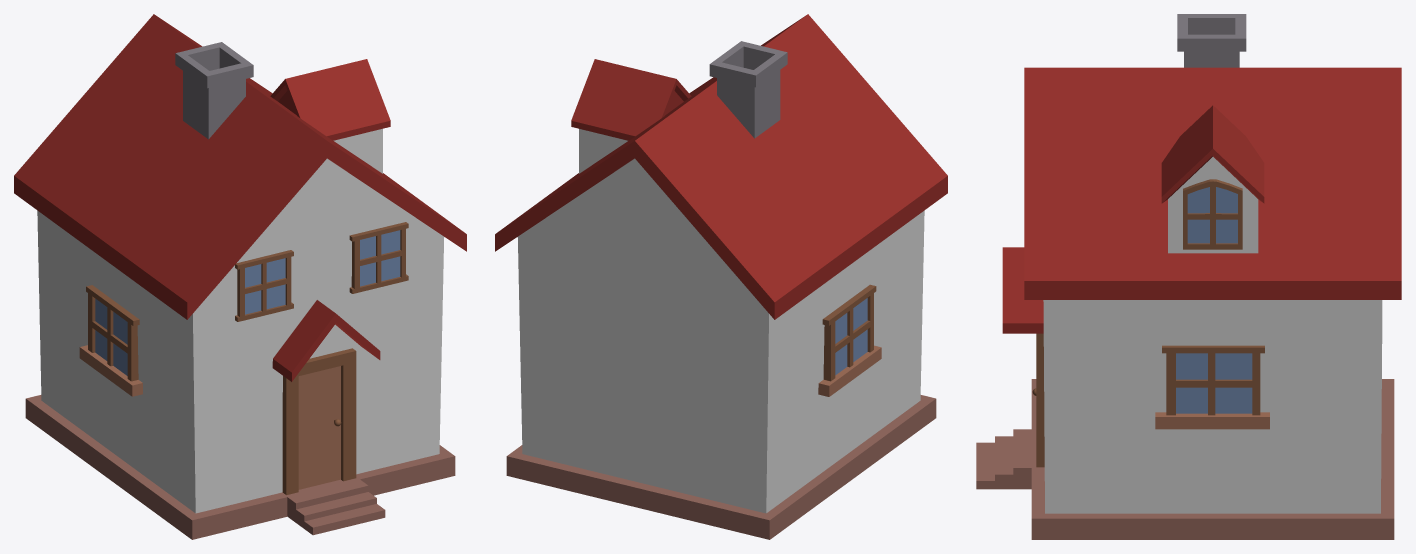
File: SimpleHouse.fbx
The picture shows the model from 3 angles, left to right: view 1: azimuth 30°, elevation 25°; view 2: azimuth 150°, elevation 25°; view 3: azimuth 270°, elevation 25°; orthographic projection. The views are drawn at different scales.
Parts seen in each view (by area): view 1: SimpleHouse.001, SimpleHouse; view 2: SimpleHouse, SimpleHouse.001; view 3: SimpleHouse.001, SimpleHouse.
Part boxes in pixels (x1,y1,x2,y2): SimpleHouse.001: [14, 14, 466, 539]; SimpleHouse: [37, 128, 444, 513]; SimpleHouse: [517, 129, 924, 513]; SimpleHouse.001: [495, 14, 947, 539]; SimpleHouse.001: [976, 14, 1401, 539]; SimpleHouse: [1043, 157, 1382, 513].
Bounding box in the file's own units: 441 × 595 × 533.
